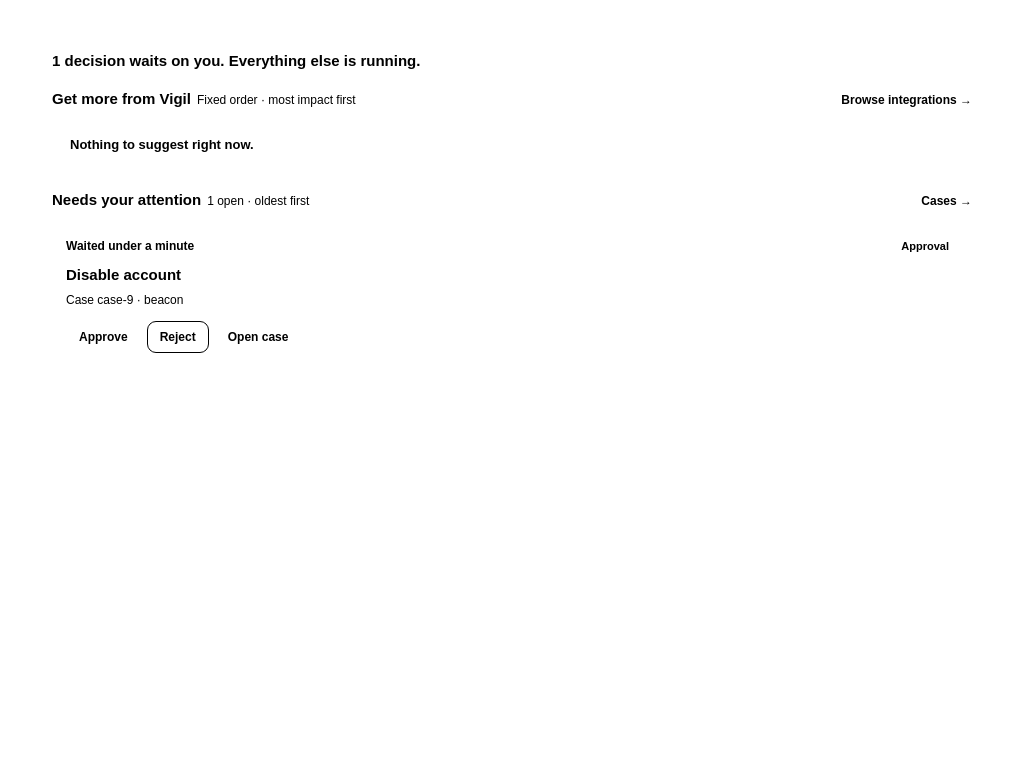
Test: Home › rejects through the fuse with the typed reason
Expected: the heading "Disable account" is shown, x1=66 y1=266 x2=181 y2=282
Click the button "Reject". click: (178, 337)
box: x1=147 y1=321 x2=209 y2=353
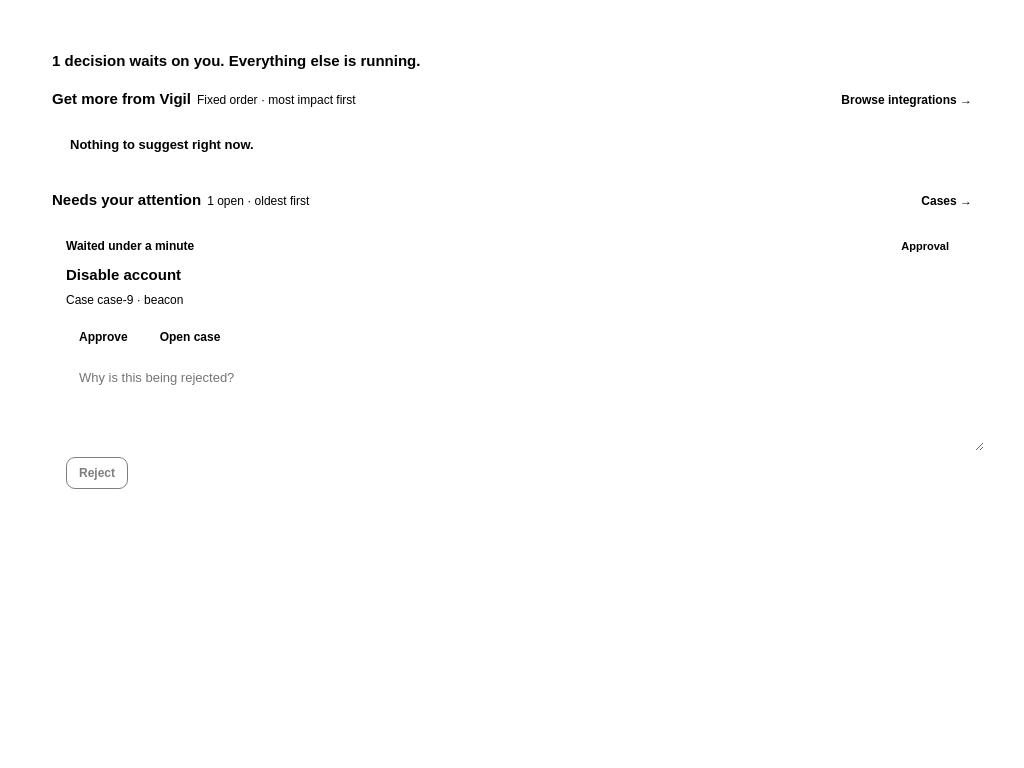
Type "not our host" into the text box named "Rejection reason". click: (525, 405)
box: x1=66 y1=359 x2=984 y2=451
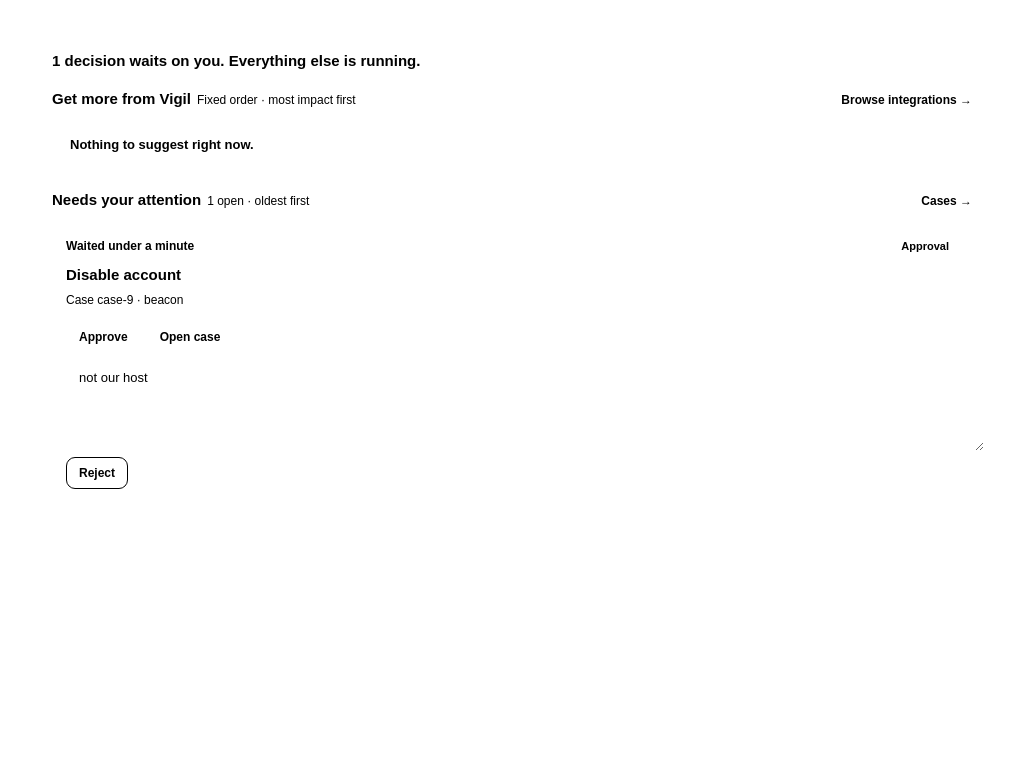
Click the button "Reject". click: (97, 473)
box: x1=66 y1=457 x2=128 y2=489
Wait 8000 ms
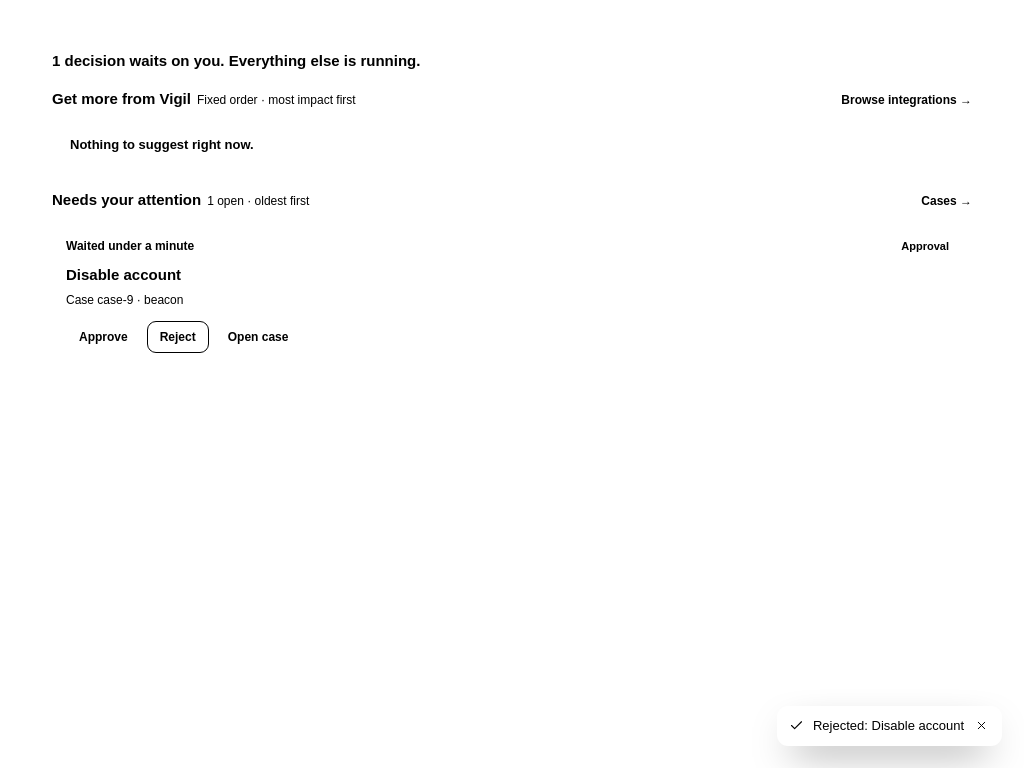
Expected: the text "Rejected: Disable account" is shown, x1=813 y1=717 x2=964 y2=735
